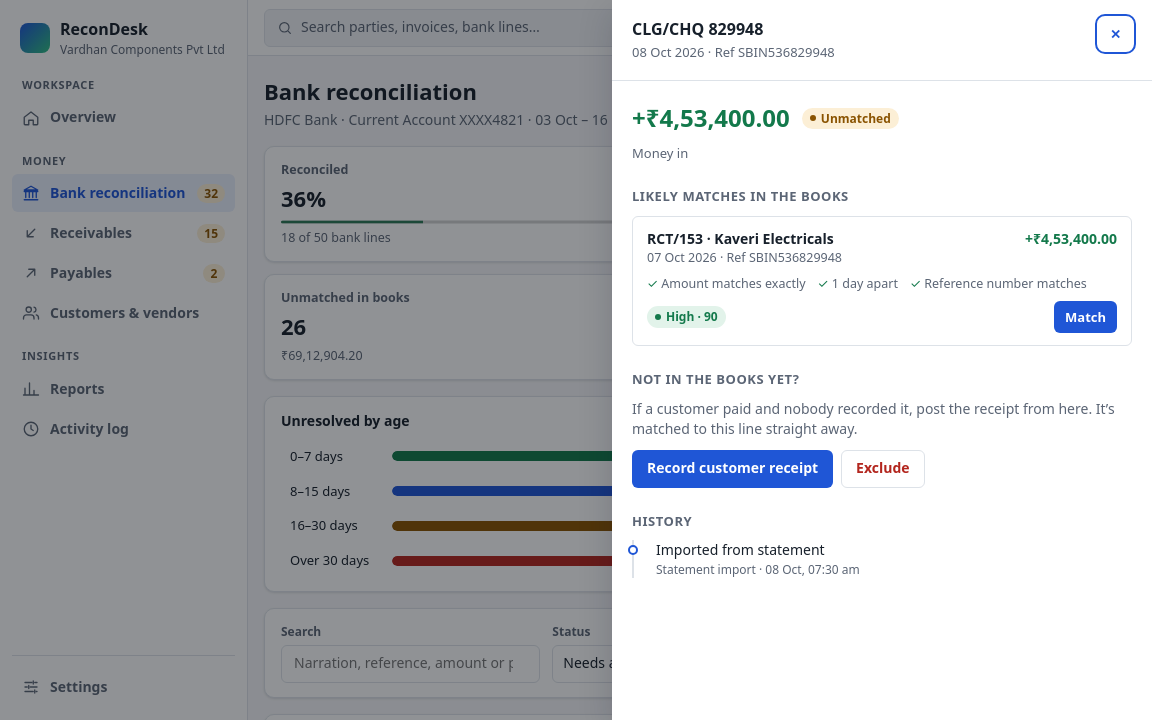
Test: Line drawer › matches a line to a suggested book entry, then unmatches it
Click the button with aria-label "match with". click: (1086, 317)
box: [1054,301,1117,333]
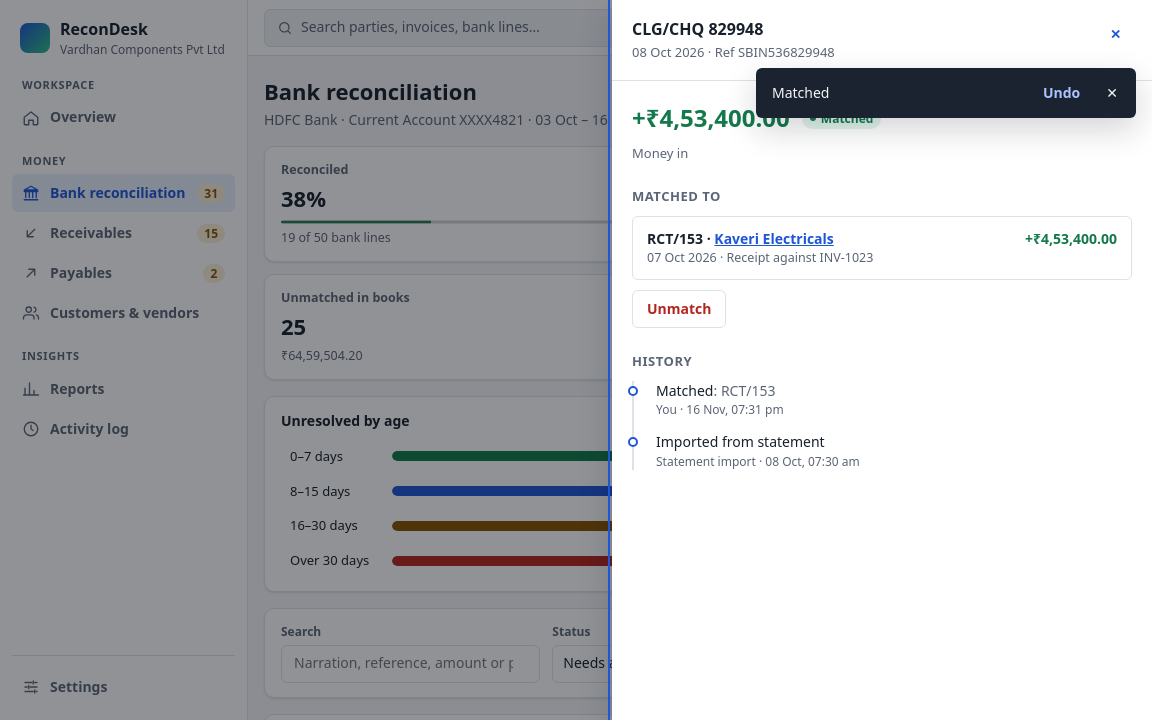
Expected: the heading "Matched to" is shown, [632,187,721,205]
Click the button "Unmatch". click: (679, 309)
box: [632,290,726,328]
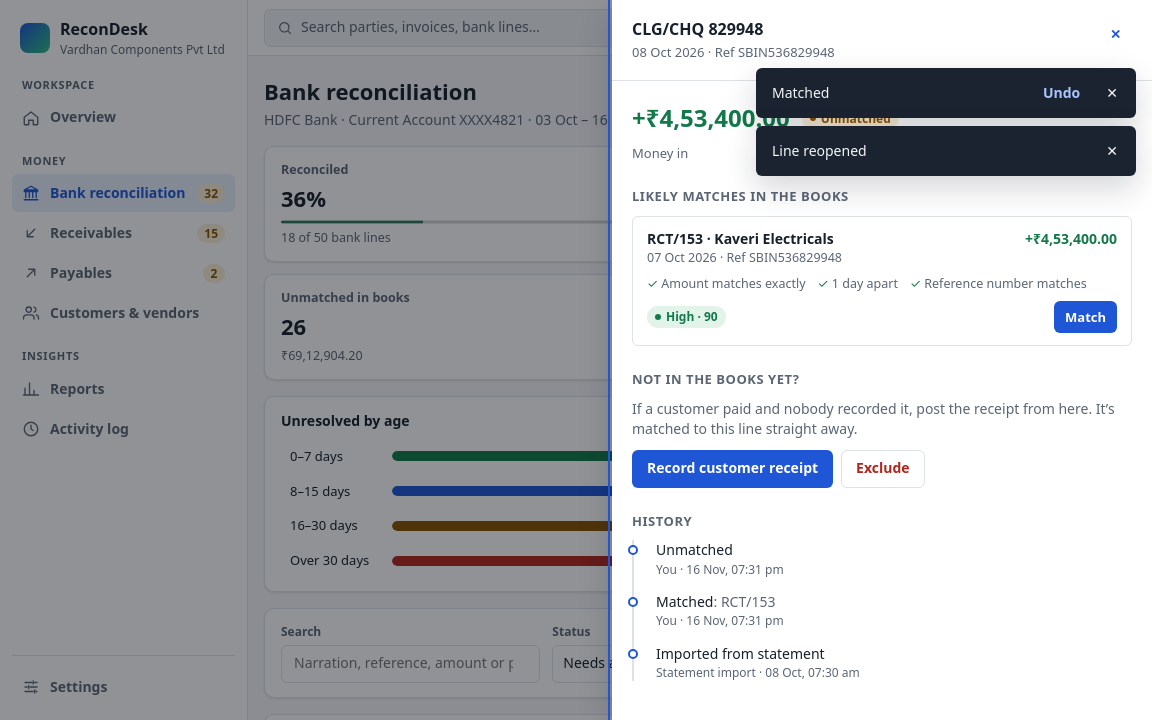
Expected: the heading "Likely matches in the books" is shown, [632,187,849,205]
